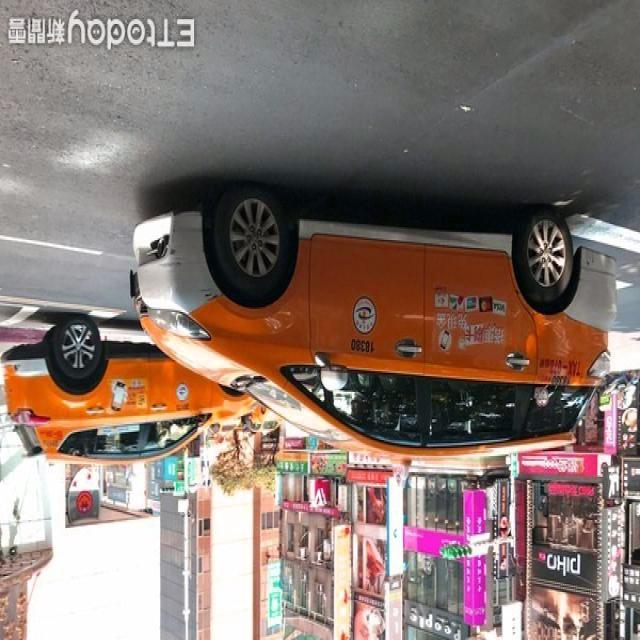taxi: (119, 167, 609, 495), (1, 316, 290, 502)
